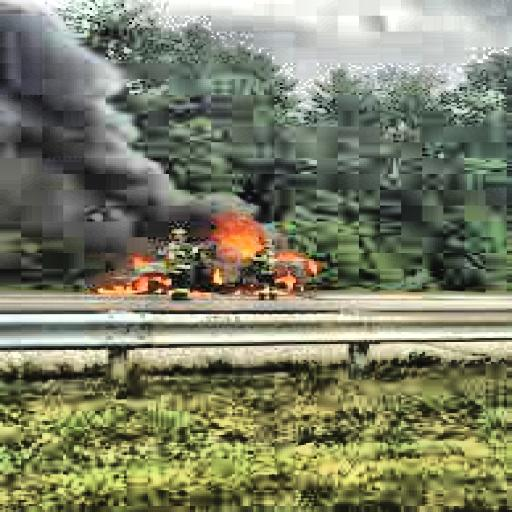fire: (98, 210, 324, 312)
